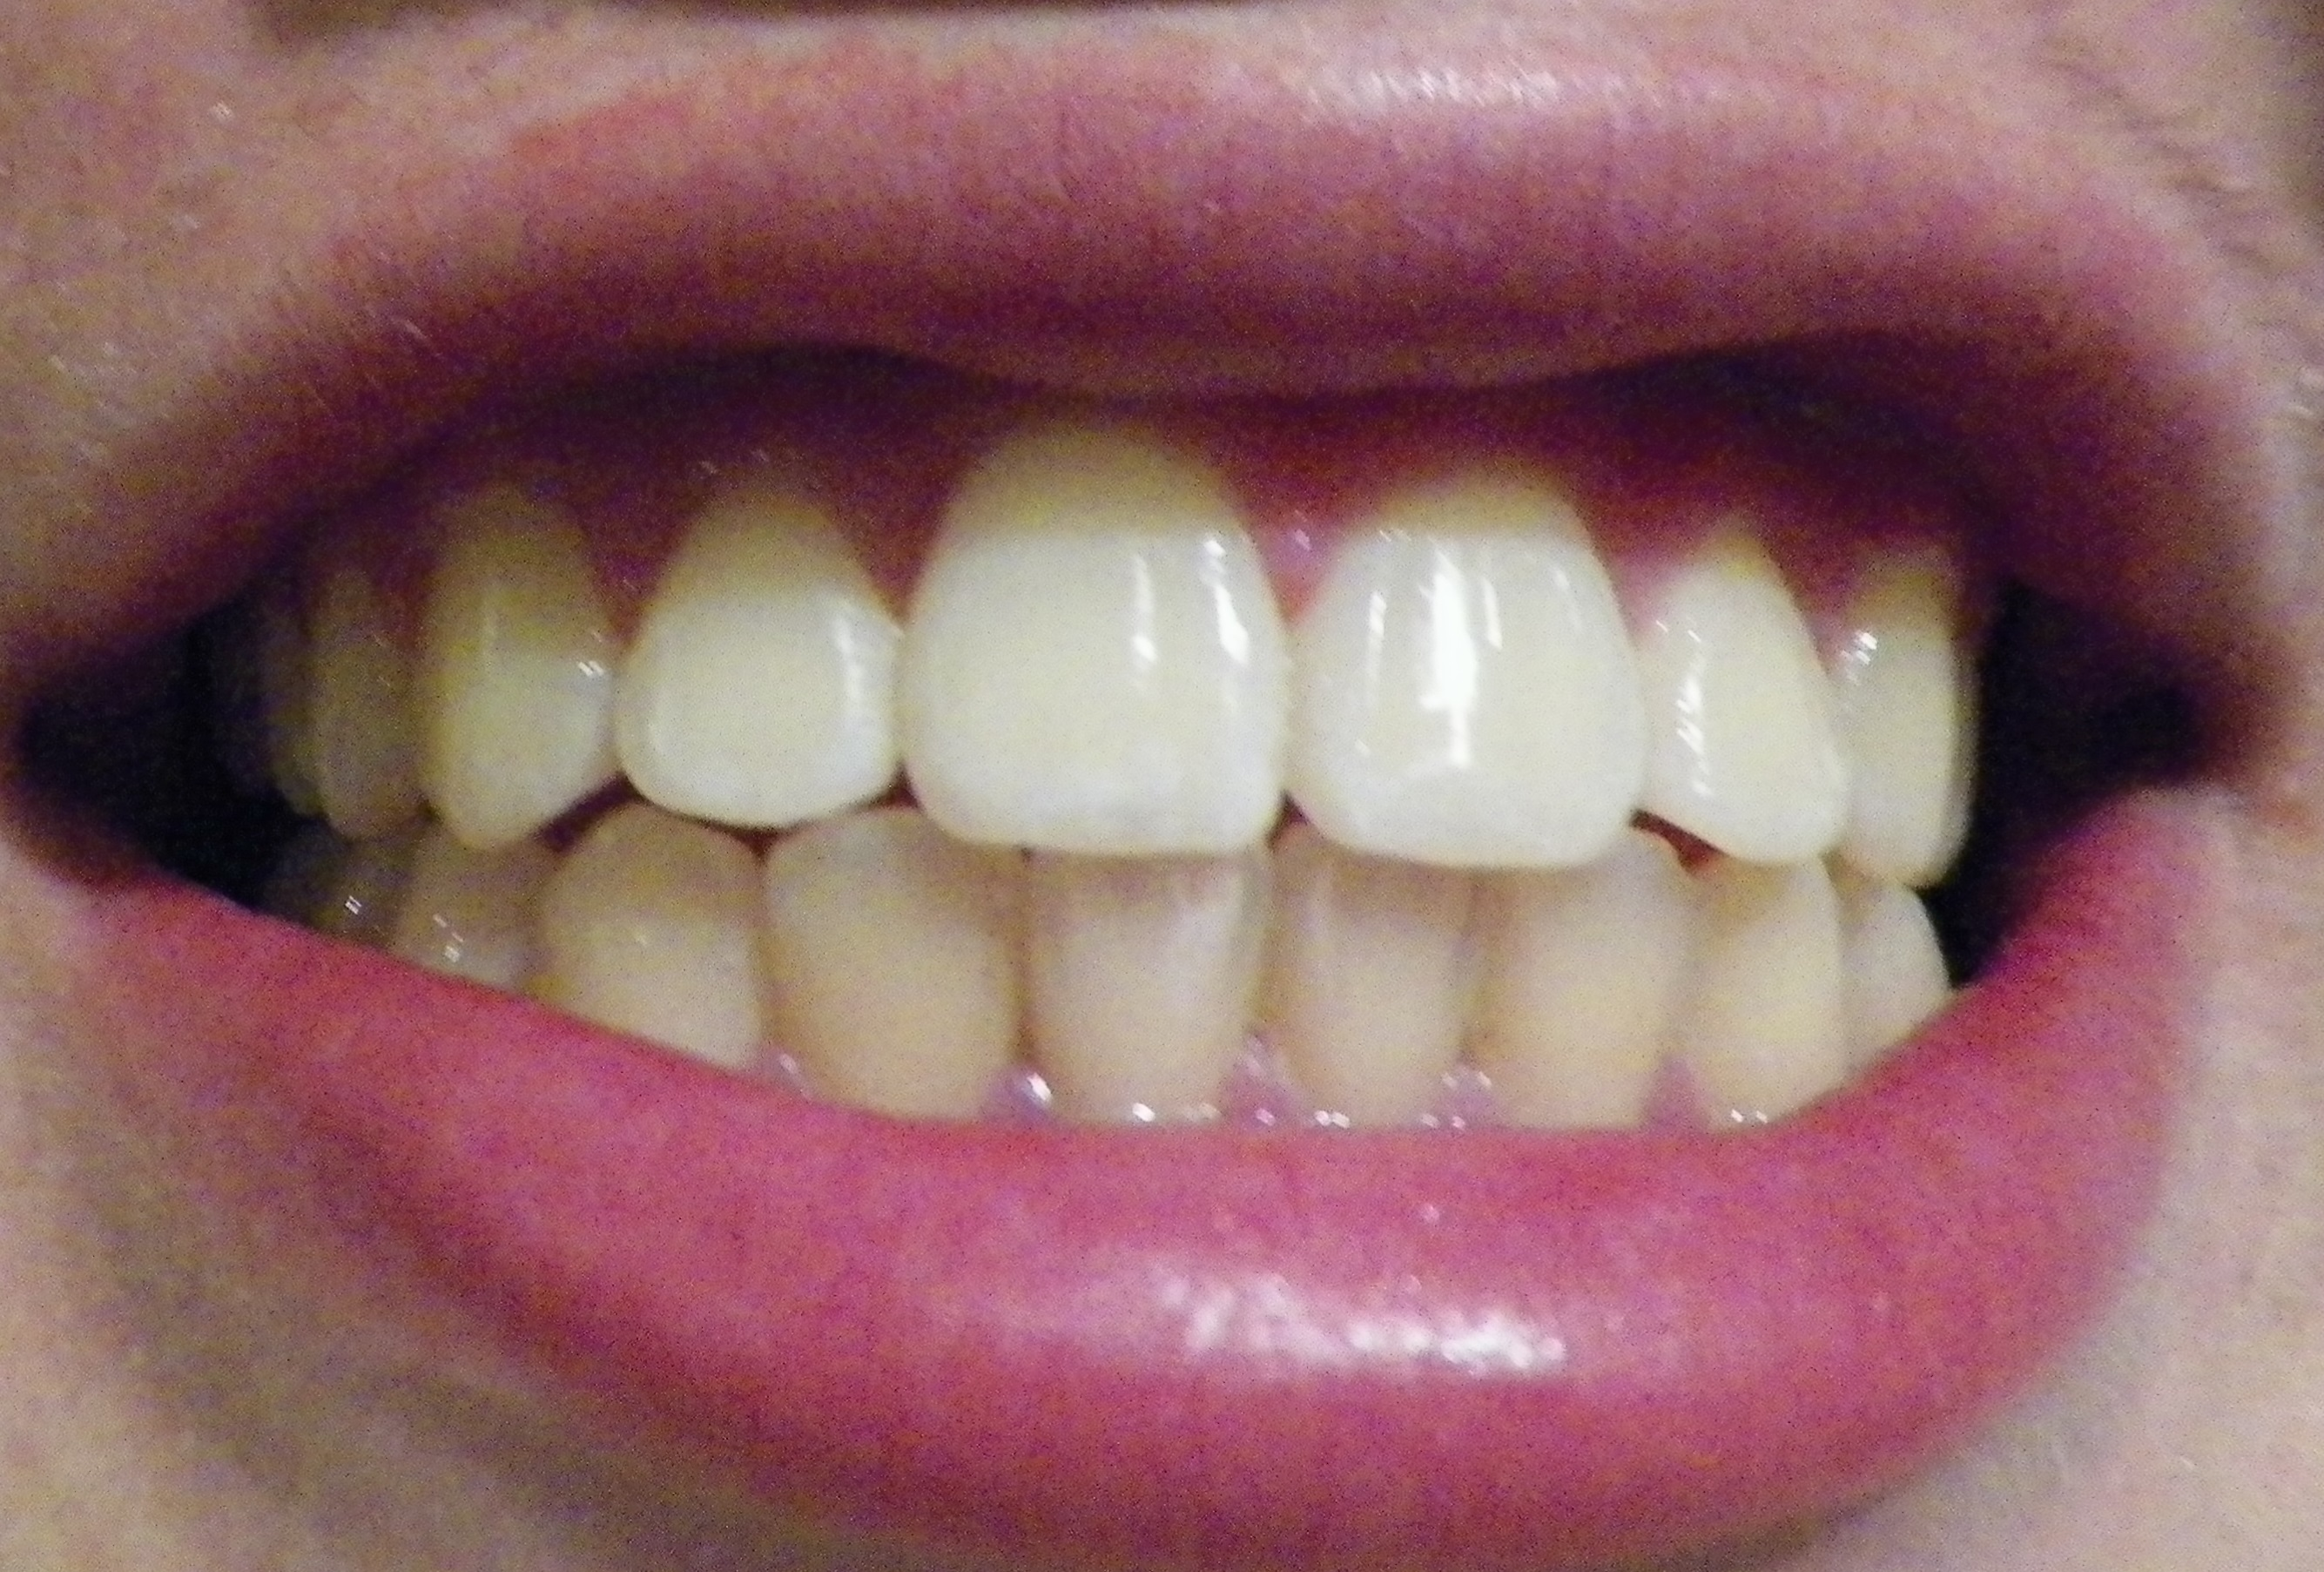boca: (274, 470, 2036, 1111)
